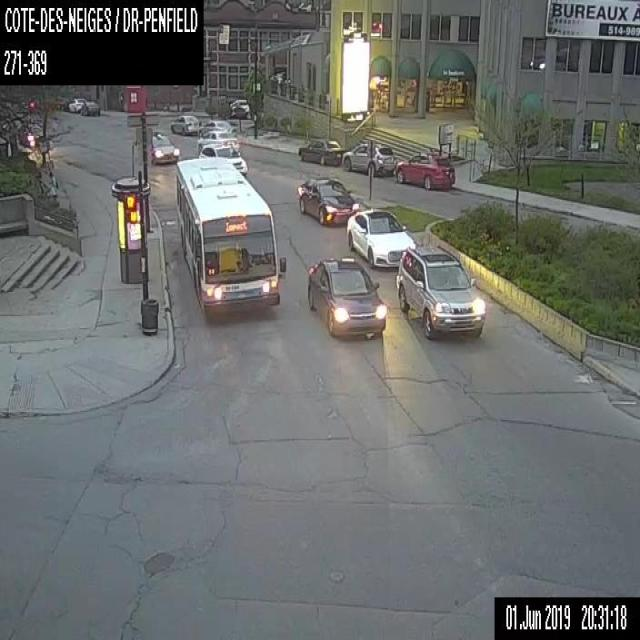bus: (174, 153, 286, 314)
vehicle: (396, 241, 486, 340), (306, 259, 386, 337), (346, 207, 415, 266), (298, 176, 359, 224), (395, 152, 455, 190), (341, 142, 396, 176), (198, 142, 247, 175), (298, 136, 347, 166), (150, 130, 178, 166), (197, 129, 238, 151), (197, 119, 237, 138), (171, 114, 201, 134), (225, 97, 249, 119), (80, 99, 99, 115), (68, 96, 86, 112)
